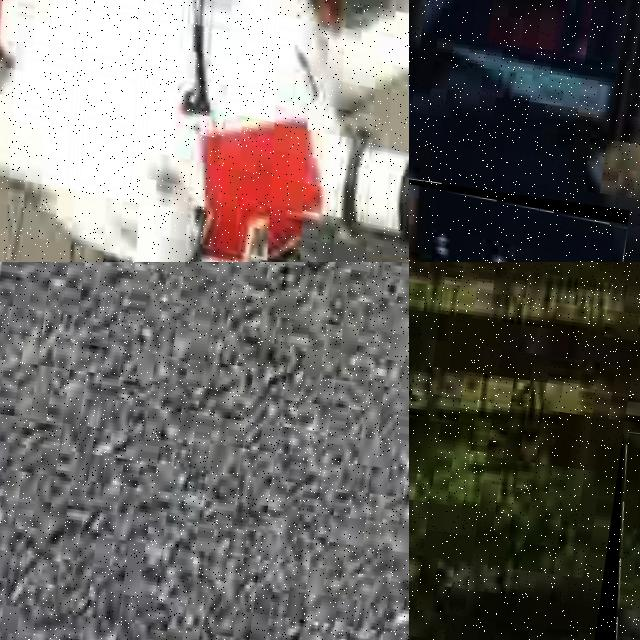drone: (0, 0, 409, 262), (409, 165, 630, 262)
